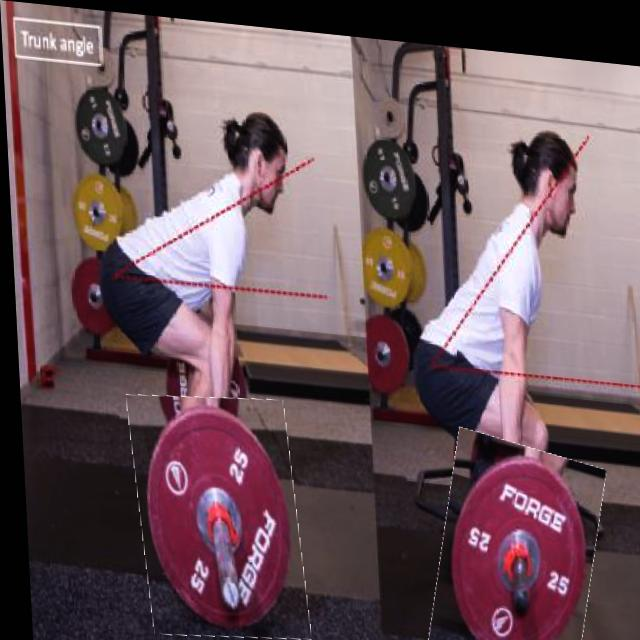barbell: (126, 386, 302, 640), (424, 421, 601, 640)
